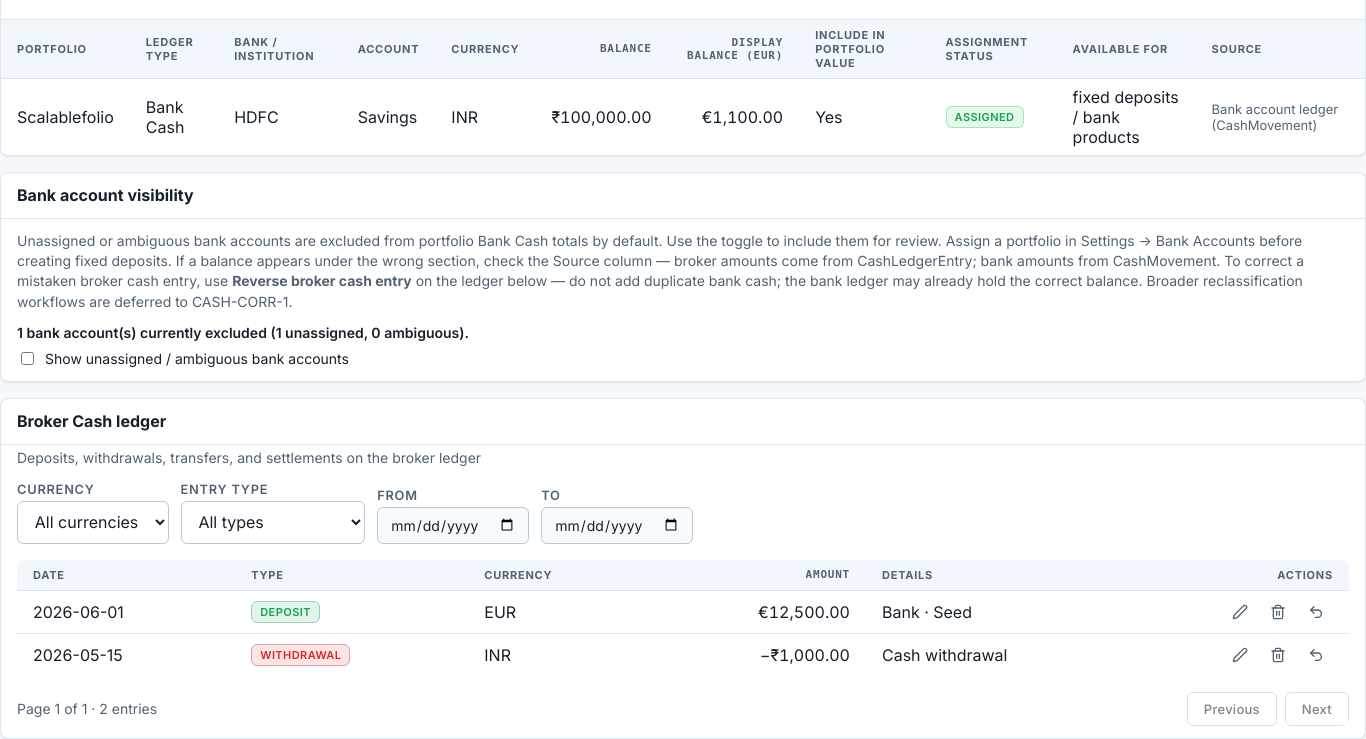
Test case: Cash page › edit modal submits update and refreshes
This screenshot has width=1366, height=739.
(page scrolled)
Click the button named "Edit Deposit" at (1240, 612), box 1223,599 -> 1257,625
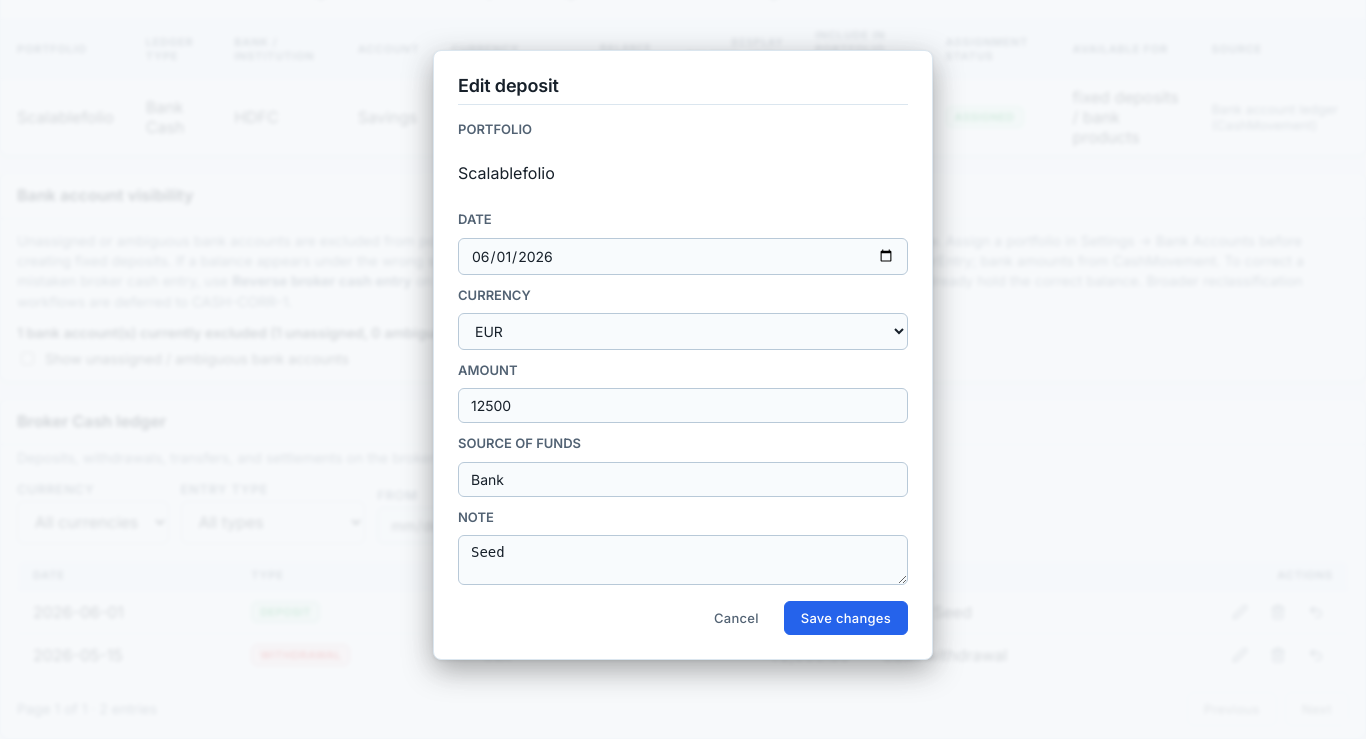
Replace the text in the number field labelled "Amount" with "150" at (683, 406), box 458,388 -> 908,423
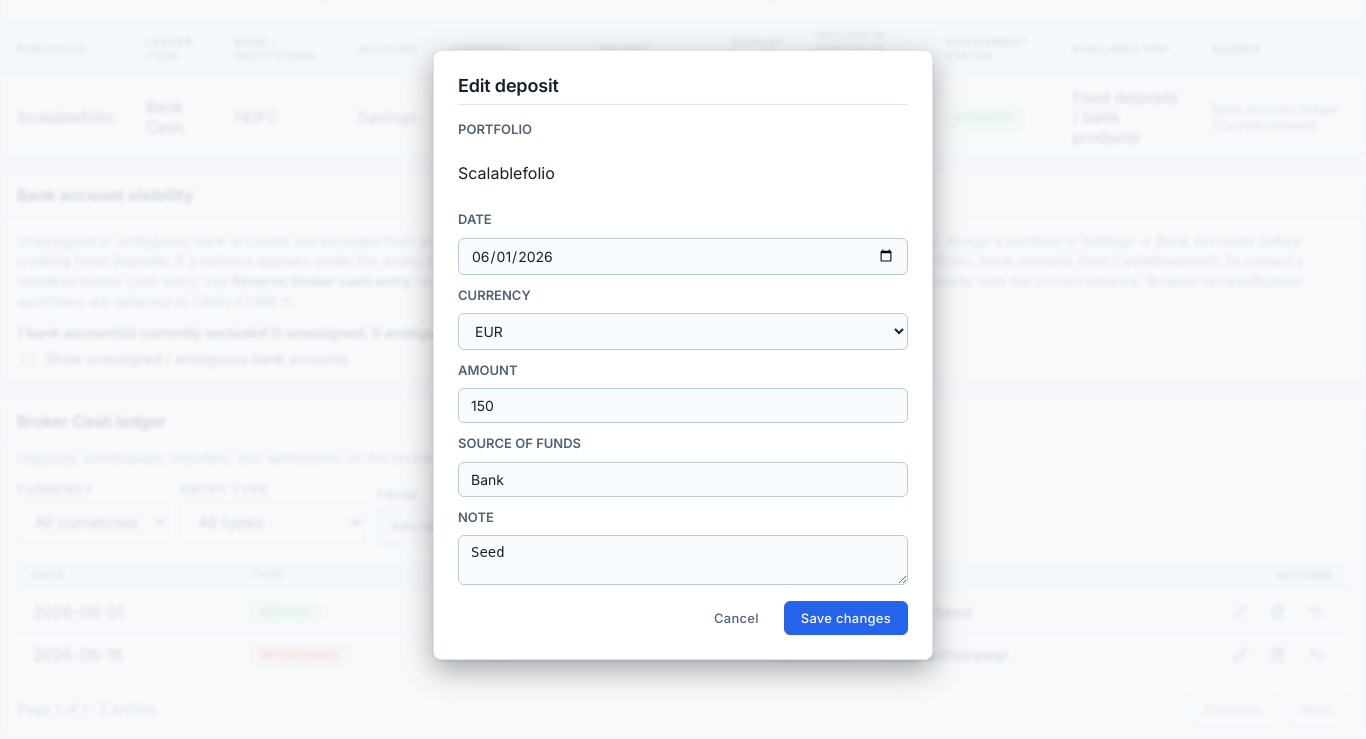
Click the button "Save changes" at (846, 618), box 784,601 -> 908,635
(page scrolled)
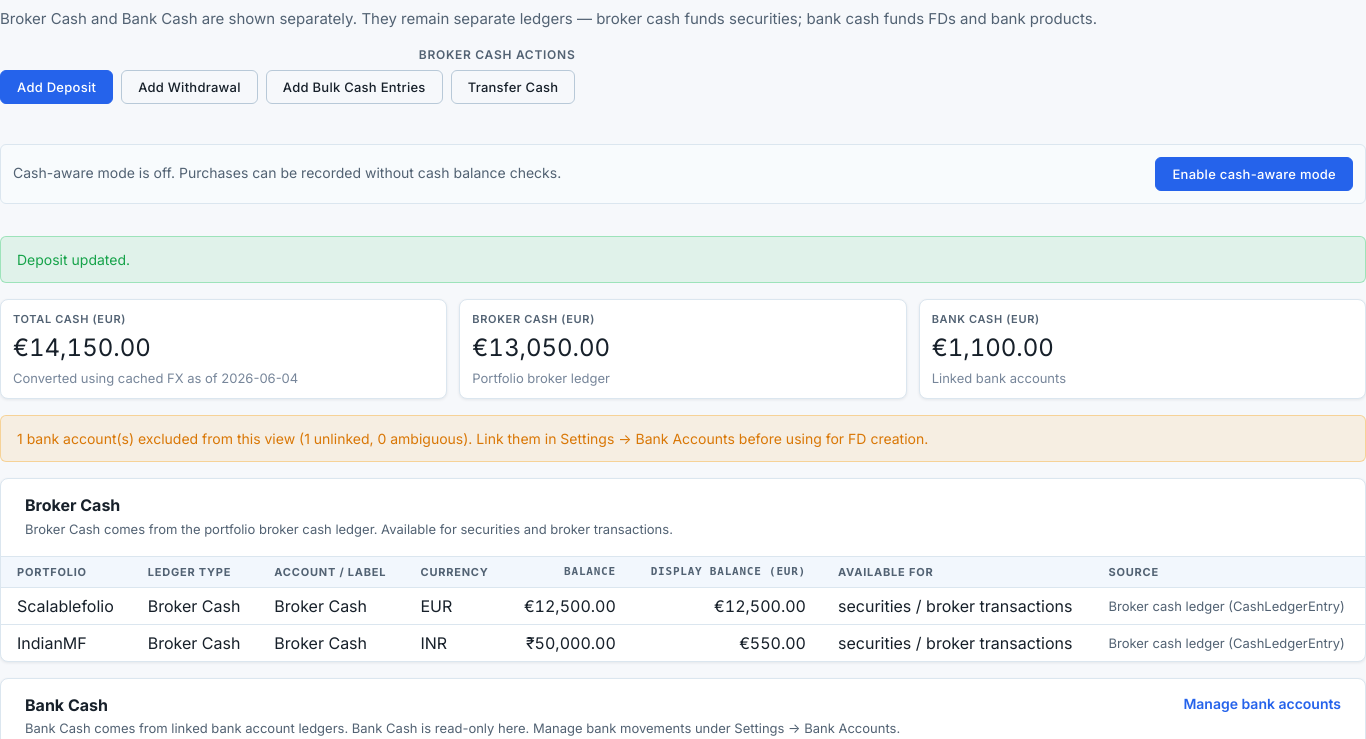
Now the text "Deposit updated." is shown, box 17,248 -> 130,270
